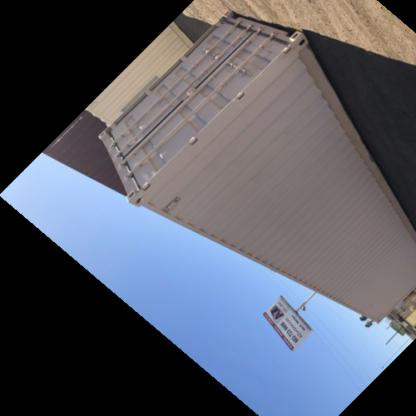Damage: (360, 164, 382, 206)
